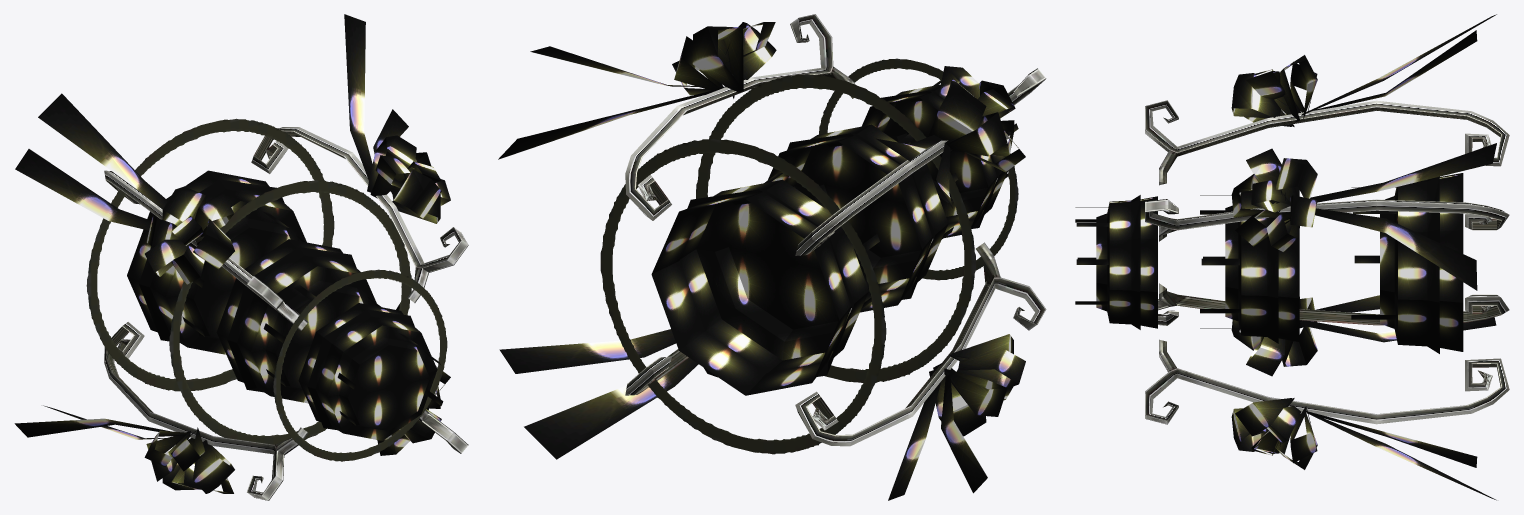
Rendered from hunli_dangao3_a.obj.
3 views of the same model, side by side, from view 1: azimuth 30°, elevation 25°; view 2: azimuth 150°, elevation 25°; view 3: azimuth 270°, elevation 25° (orthographic). The views are drawn at different scales.
Parts seen in each view (by area): view 1: hunli_dangao3_a; view 2: hunli_dangao3_a; view 3: hunli_dangao3_a.
Part boxes in pixels (box(x1,y1,x2,y2)): hunli_dangao3_a: box(14, 14, 468, 500); hunli_dangao3_a: box(498, 14, 1046, 500); hunli_dangao3_a: box(1075, 14, 1509, 500).
Bounding box in the file's own units: 66.34 × 55.05 × 59.99.
3 materials, 3 textured.
